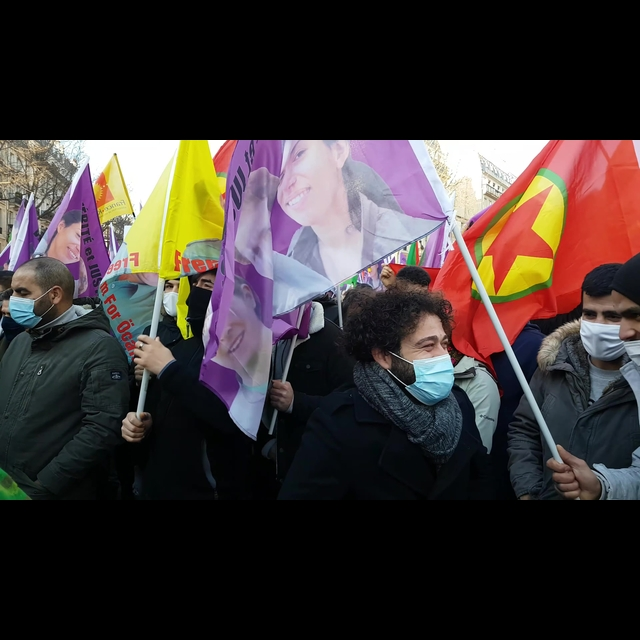PKK: (461, 146, 561, 301)
